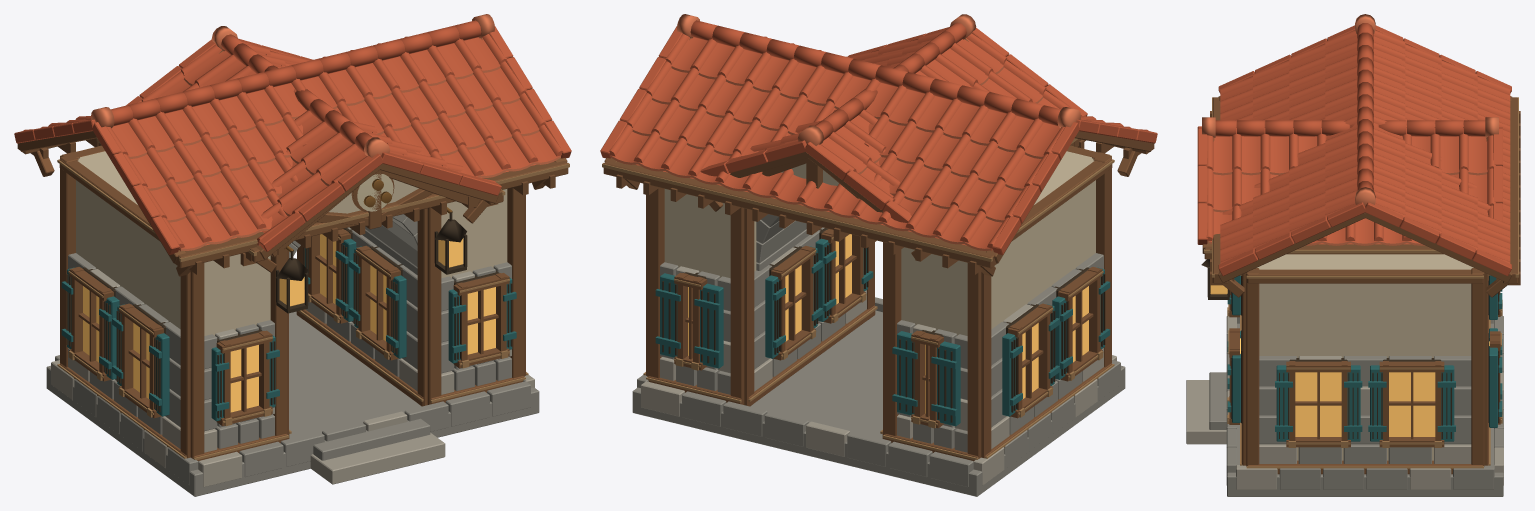
The picture shows the model from 3 angles, left to right: view 1: azimuth 30°, elevation 25°; view 2: azimuth 150°, elevation 25°; view 3: azimuth 270°, elevation 25°; orthographic projection. The views are drawn at different scales.
Parts seen in each view (by area): view 1: alpine_teleport_gate_geometry, alpine_teleport_gate_geometry ceramic; view 2: alpine_teleport_gate_geometry, alpine_teleport_gate_geometry ceramic; view 3: alpine_teleport_gate_geometry, alpine_teleport_gate_geometry ceramic.
Boxes of the visible parts, x1=… form: alpine_teleport_gate_geometry: x1=17, y1=38, x2=569, y2=496; alpine_teleport_gate_geometry ceramic: x1=14, y1=14, x2=571, y2=254; alpine_teleport_gate_geometry: x1=602, y1=38, x2=1154, y2=496; alpine_teleport_gate_geometry ceramic: x1=600, y1=14, x2=1157, y2=254; alpine_teleport_gate_geometry: x1=1186, y1=96, x2=1520, y2=496; alpine_teleport_gate_geometry ceramic: x1=1197, y1=14, x2=1511, y2=275.
Size of the model in its own units: 1.04 by 0.8389 by 0.8059.
